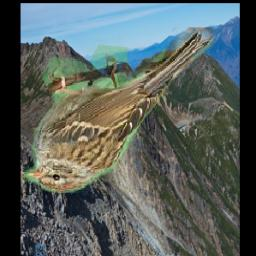Crow: (27, 243, 51, 256)
Sparrow: (25, 27, 214, 193)
